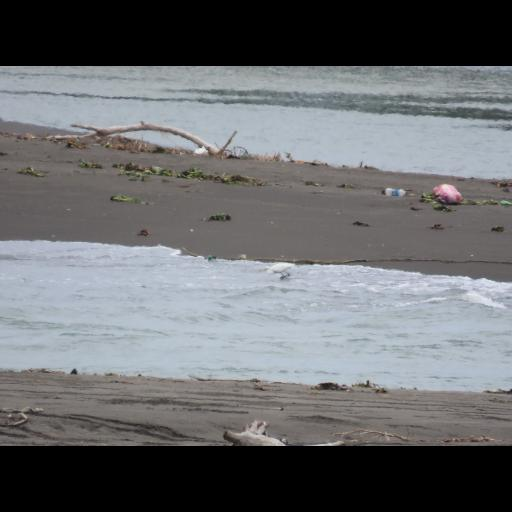chinese_egret: (256, 262, 296, 280)
